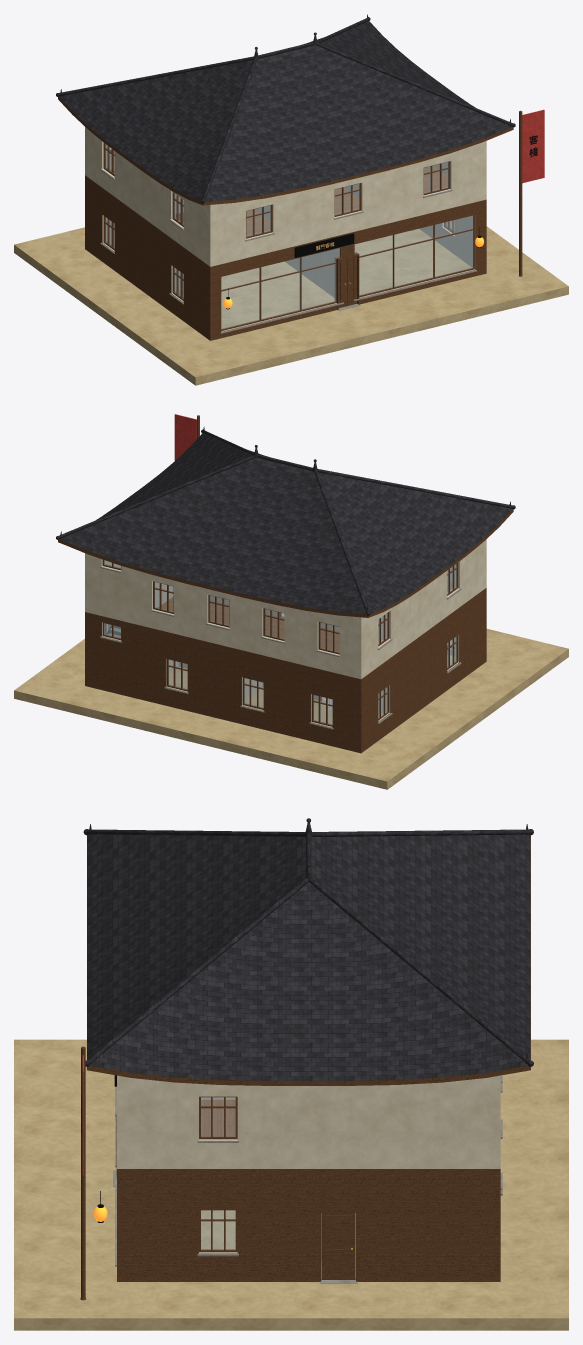
File: b_wuxia_inn.gltf
The picture shows the model from 3 angles, top to bottom: view 1: azimuth 30°, elevation 25°; view 2: azimuth 150°, elevation 25°; view 3: azimuth 270°, elevation 25°; orthographic projection. The views are drawn at different scales.
Parts seen in each view (by area): view 1: S_wuxia_inn, D_wuxia_inn_F1_S2_Door1; view 2: S_wuxia_inn; view 3: S_wuxia_inn, D_wuxia_inn_F1_E1_Door0.
Part boxes in pixels (x1,y1,x2,y2): S_wuxia_inn: (14,14,568,385); D_wuxia_inn_F1_S2_Door1: (347,256,356,305); S_wuxia_inn: (14,414,568,789); S_wuxia_inn: (14,818,568,1330); D_wuxia_inn_F1_E1_Door0: (321,1213,355,1279).
Size of the model in its own units: 19 by 11.17 by 16.
20 materials, 13 textured.
